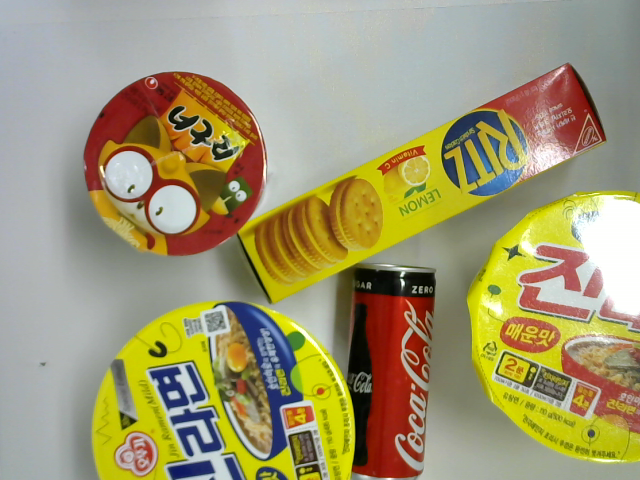Coca_Cola_Zero_Can_250ml: (345, 262, 438, 480)
Jinlamyeon_Hot_Taste_Large_Cup: (464, 189, 640, 466)
Jinlamyeon_Mild_Taste_Large_Cup: (90, 299, 358, 480)
Raccoon: (82, 70, 269, 257)
Ritz_Remon_96g: (234, 61, 611, 305)
